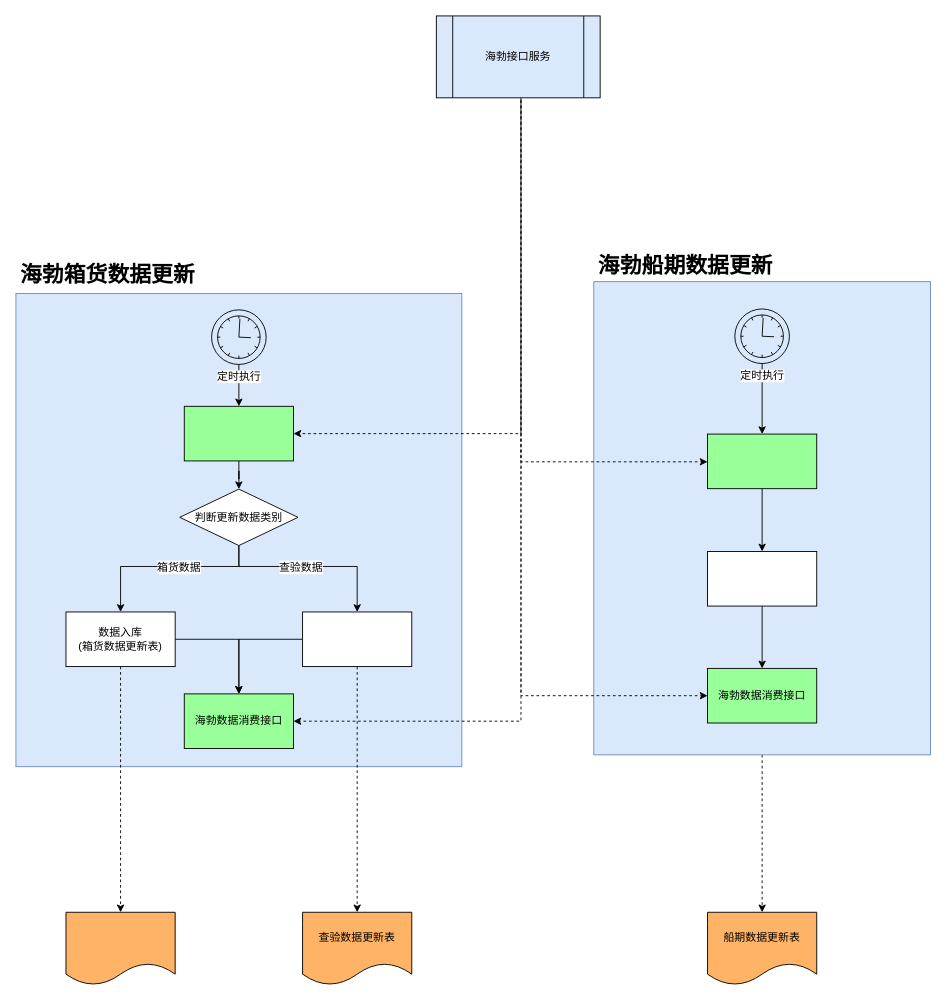
The diagram is 946 pixels wide and 1001 high, and some of its shapes have lost their labels. Here are the shapes that lost their labels. From the top down, the centre of each, then its label:
point 238,433: 海勃箱货数据 更新接口
point 762,461: 海勃船期数据 更新接口
point 762,578: 数据入库 (船期数据更新表)
point 357,639: 数据入库 (查验数据更新表)
point 120,948: 箱货数据更新表
